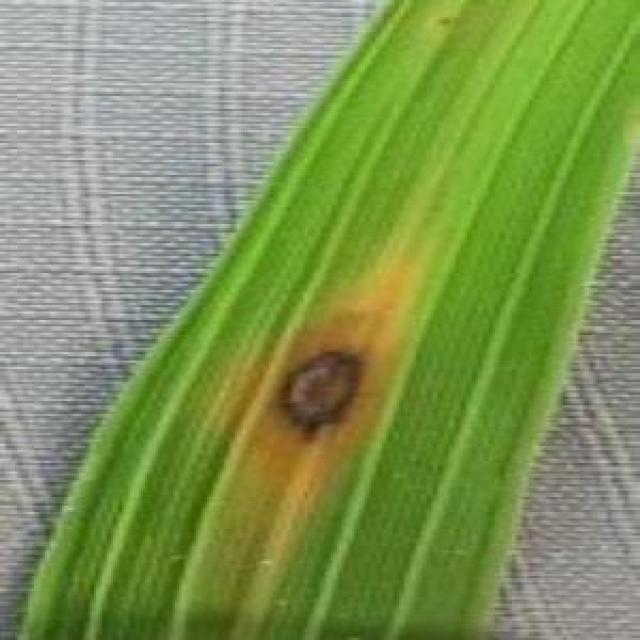brownspots: (268, 335, 369, 442)
